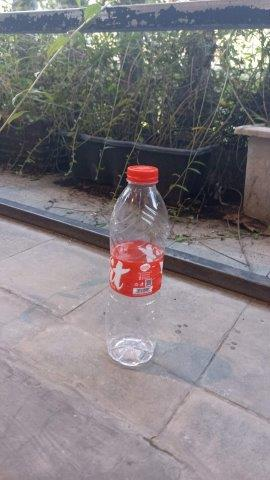botolplastik: (106, 165, 169, 367)
